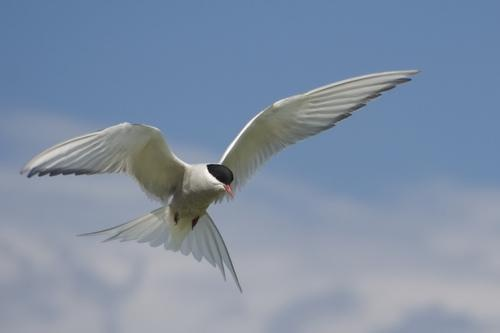bird: (21, 69, 423, 291)
